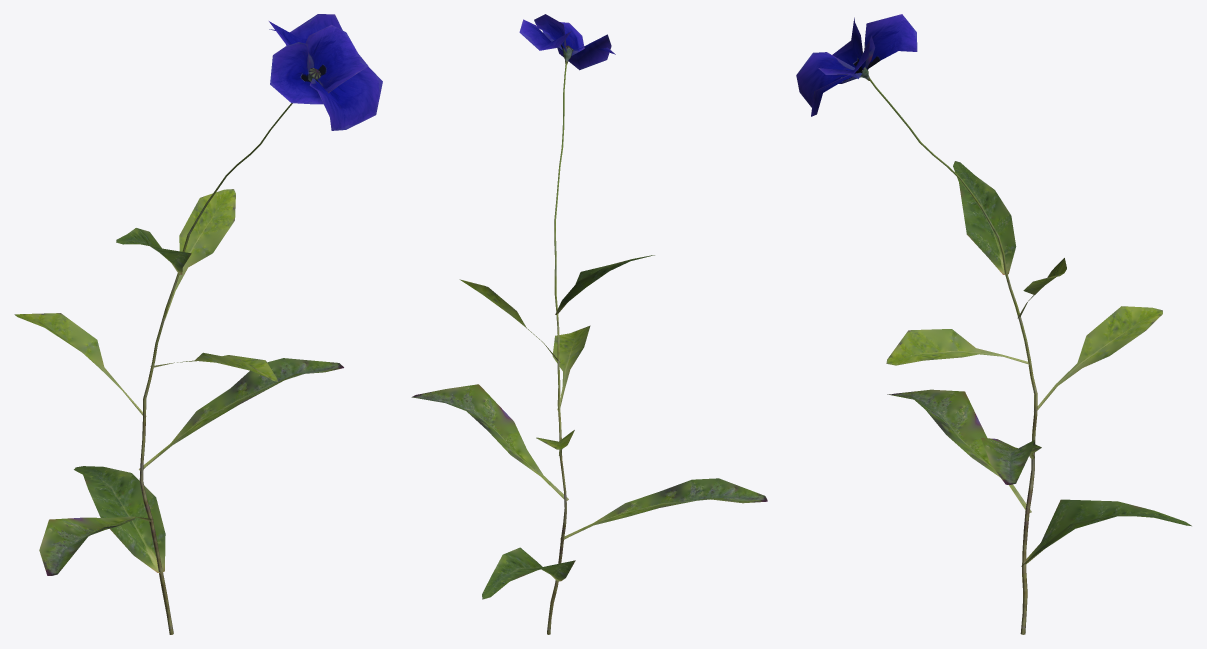
Rendered from Poppy_OG_normal_deepblue.glb.
The picture shows the model from 3 angles, left to right: view 1: azimuth 30°, elevation 25°; view 2: azimuth 150°, elevation 25°; view 3: azimuth 270°, elevation 25°; orthographic projection. The views are drawn at different scales.
Visible parts, largest first — view 1: xtall; view 2: xtall; view 3: xtall.
Part boxes in pixels (box(x1,y1,x2,y2)): xtall: box(14, 14, 382, 634); xtall: box(411, 14, 767, 634); xtall: box(796, 14, 1191, 634).
Bounding box in the file's own units: 1.75 × 3.06 × 1.73.
1 material, 1 textured.
